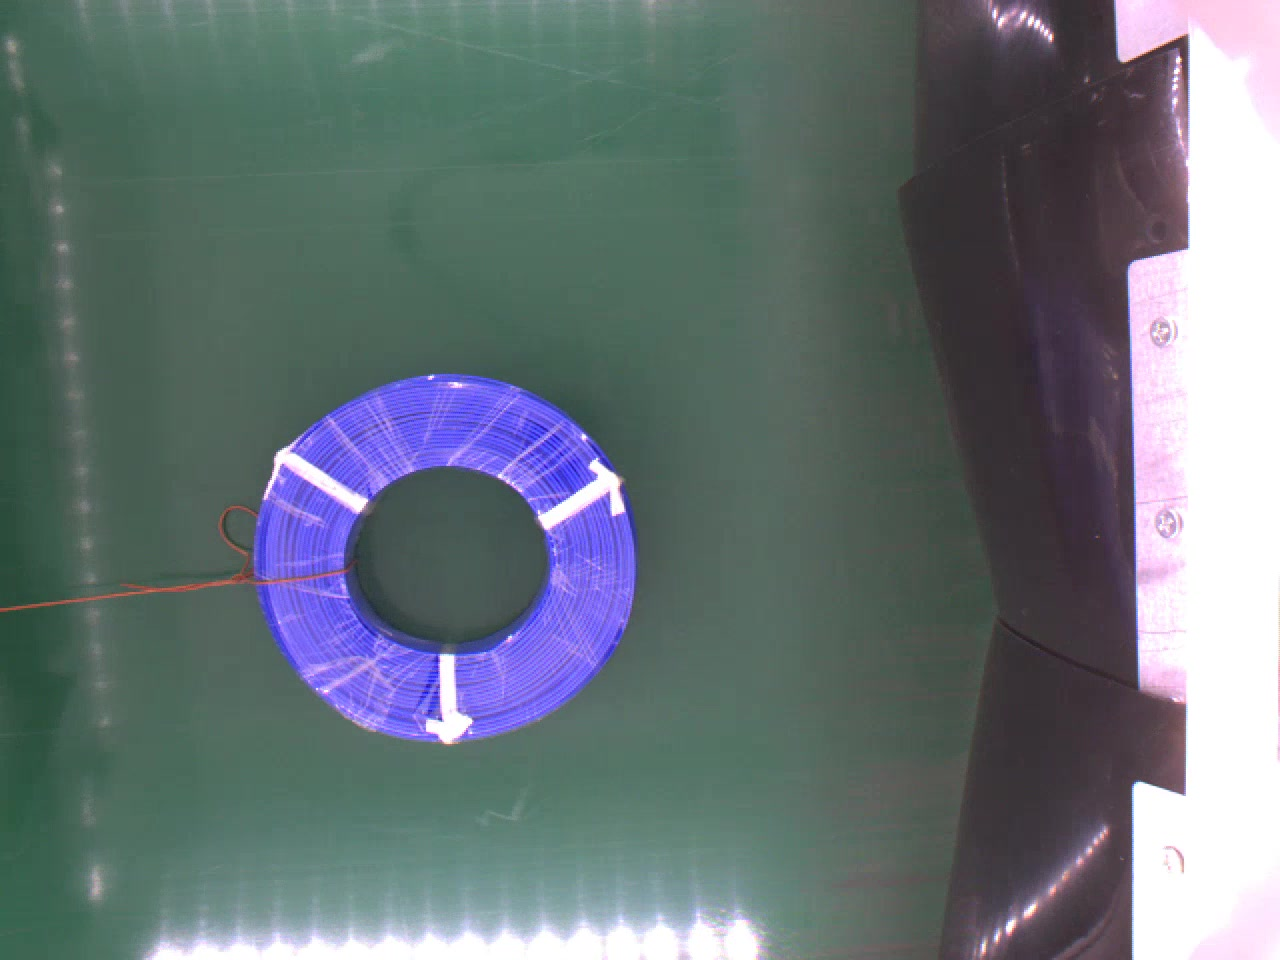blue: (250, 373, 637, 743)
